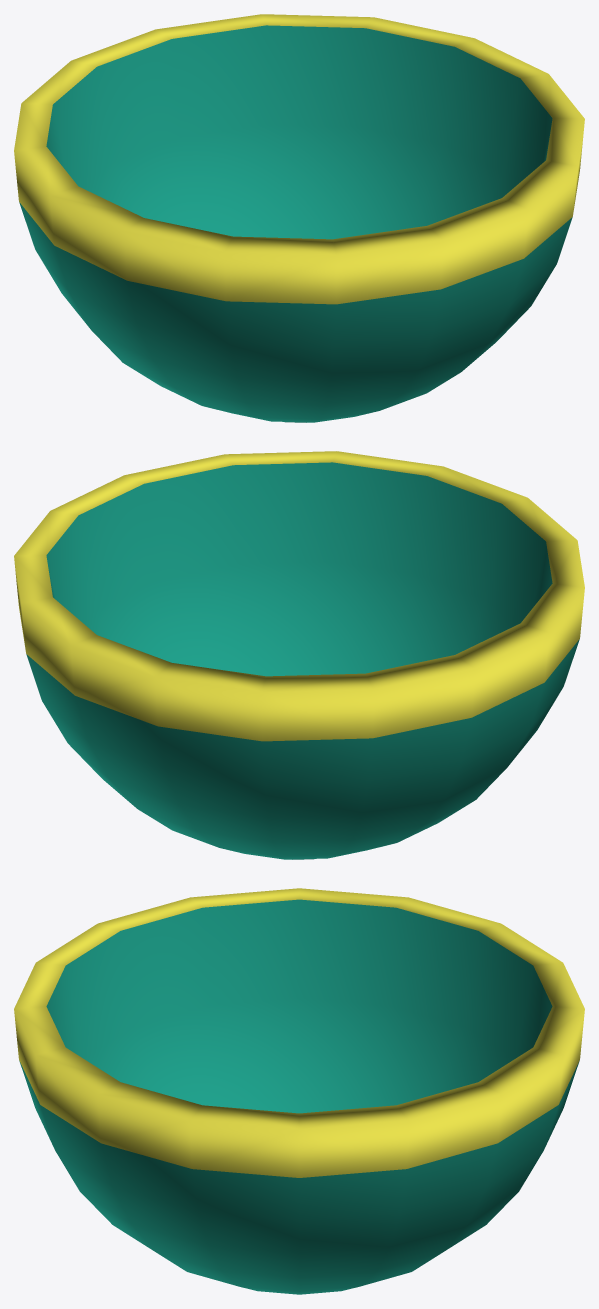
The model's file is SM_Dishes_4.fbx.
3 renders of one model, top to bottom at view 1: azimuth 30°, elevation 25°; view 2: azimuth 150°, elevation 25°; view 3: azimuth 270°, elevation 25°, orthographic.
Parts seen in each view (by area): view 1: SM_Dishes_4_LOD0; view 2: SM_Dishes_4_LOD0; view 3: SM_Dishes_4_LOD0.
Part boxes in pixels (x1,y1,x2,y2): SM_Dishes_4_LOD0: (14, 14, 584, 422); SM_Dishes_4_LOD0: (14, 451, 584, 859); SM_Dishes_4_LOD0: (14, 888, 584, 1294).
Size of the model in its own units: 23.87 by 23.87 by 12.21.
1 material, 1 textured.
